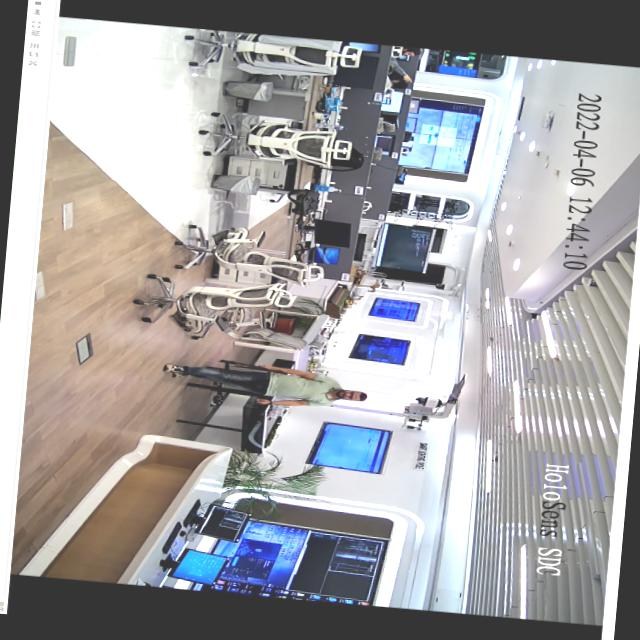long weapon: (202, 353, 290, 379)
